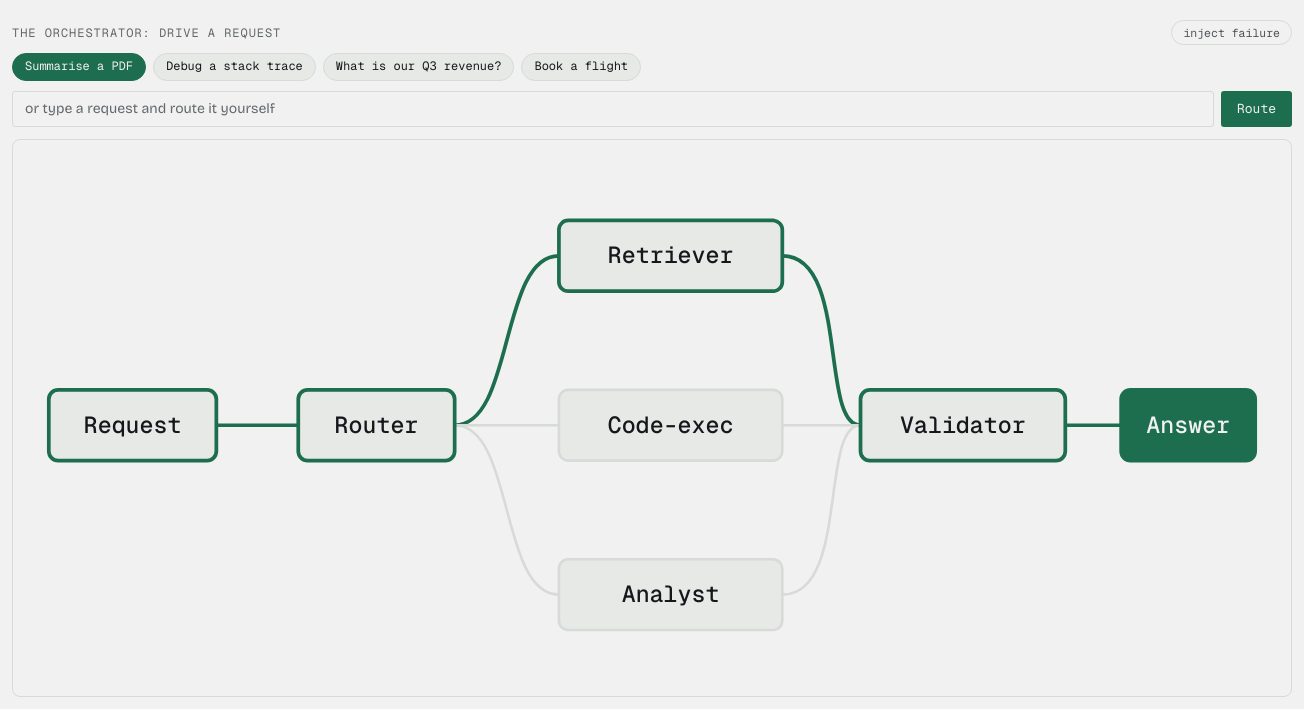
it: Orchestrator › reroutes through a fallback when failure is injected
This screenshot has width=1304, height=709.
Click the button "inject failure" at (1232, 33), box [1171, 20, 1292, 45]
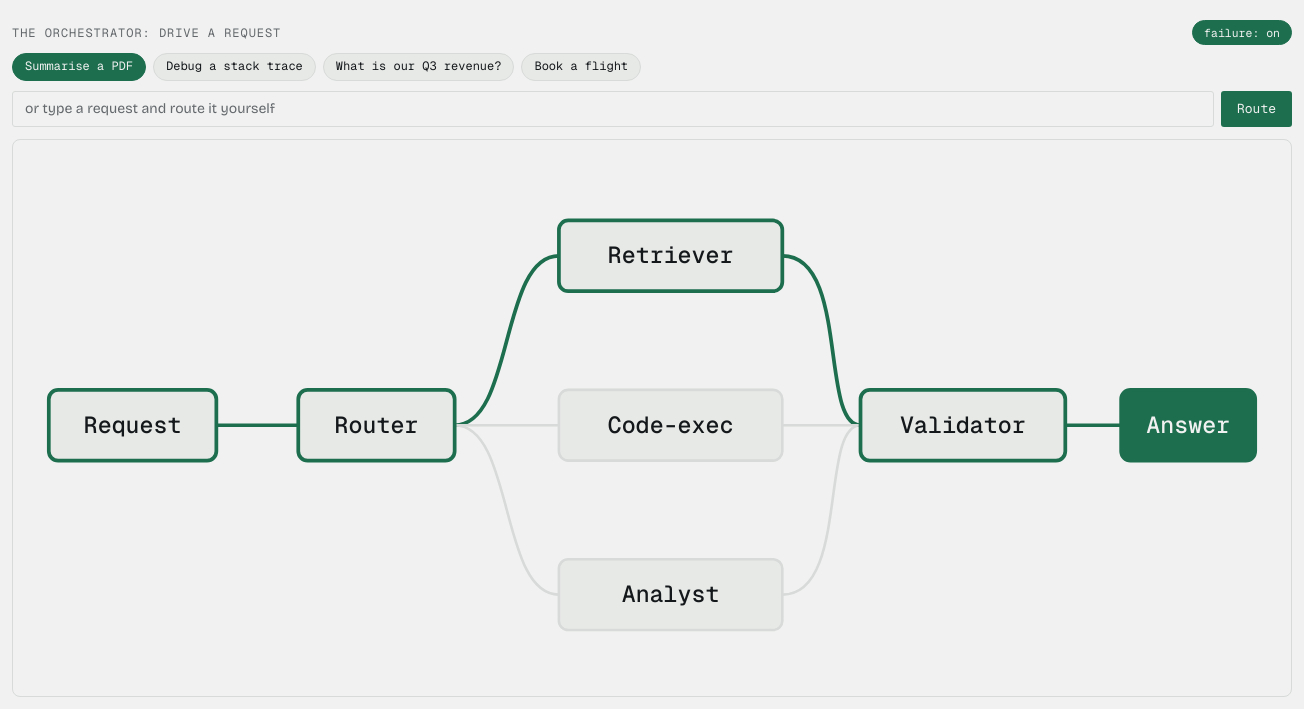
Click the button "Debug a stack trace" at (234, 67), box [153, 53, 316, 81]
(page scrolled)
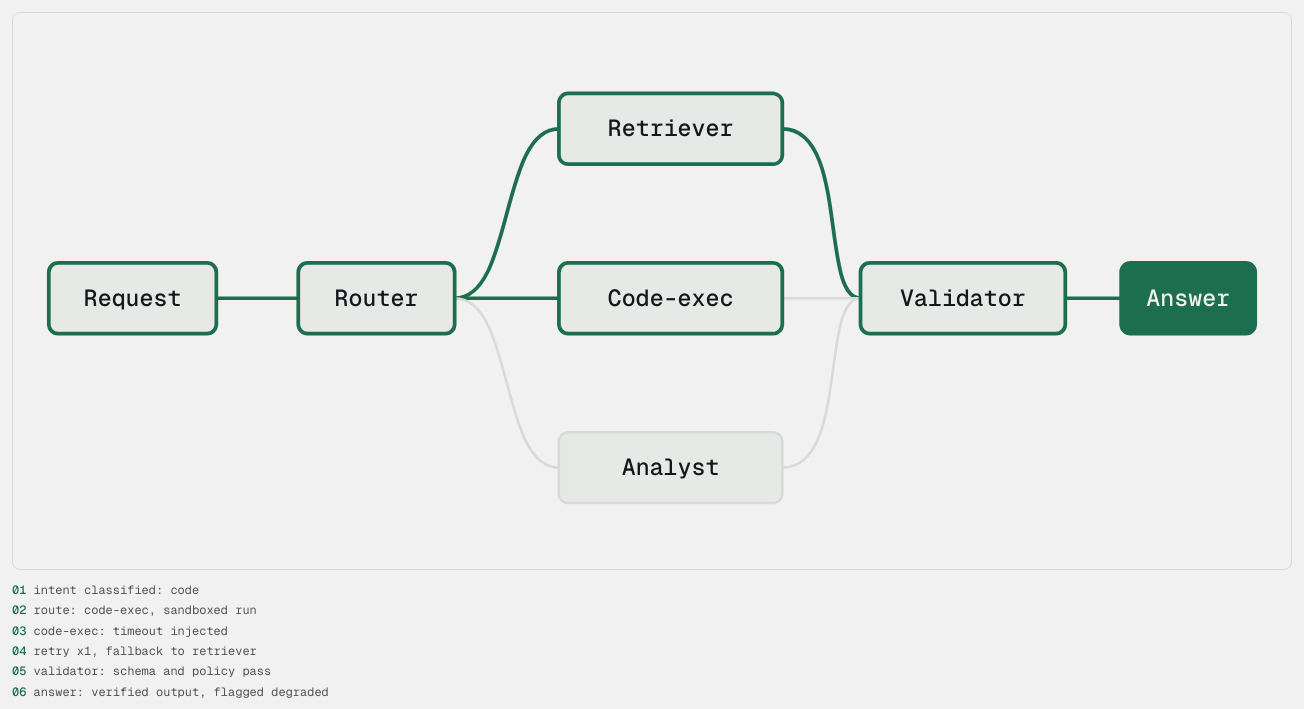
Expected: the text "03 code-exec: timeout injected" is shown, [12, 622, 228, 638]
Expected: the text "04 retry x1, fallback to retriever" is shown, [12, 643, 257, 659]
Expected: the text "06 answer: verified output, flagged degraded" is shown, [12, 684, 329, 700]
